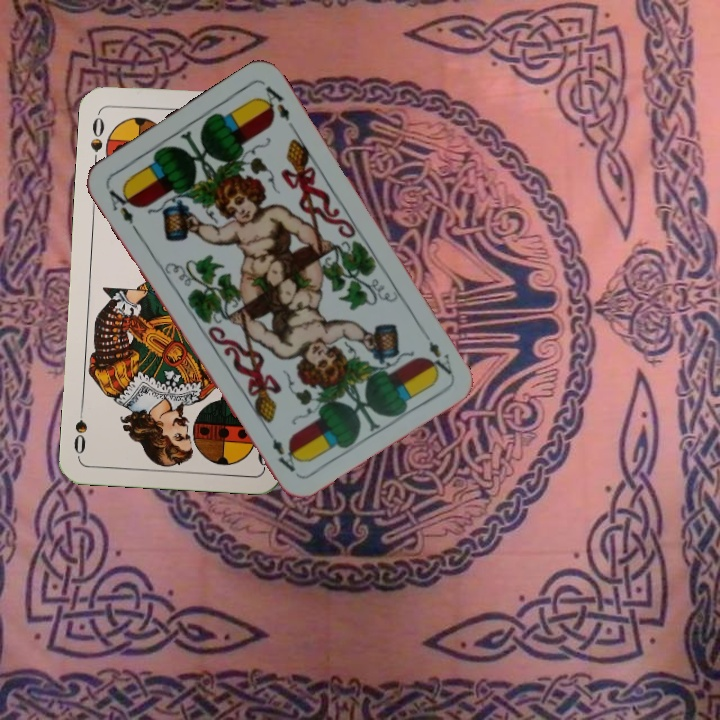EA: (102, 182, 140, 235), (421, 336, 455, 379)
SO: (86, 109, 107, 168)
